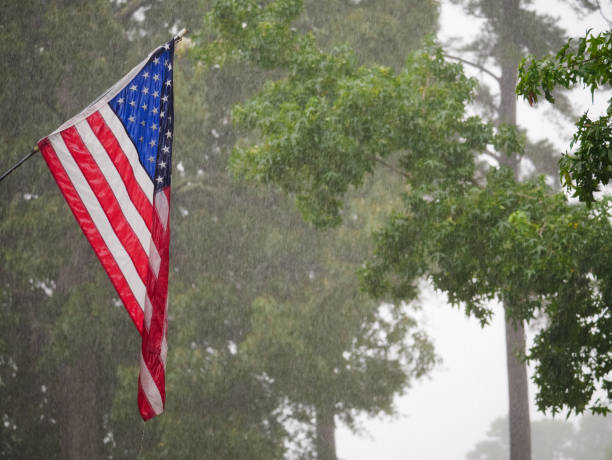America flag: (42, 37, 180, 420)
